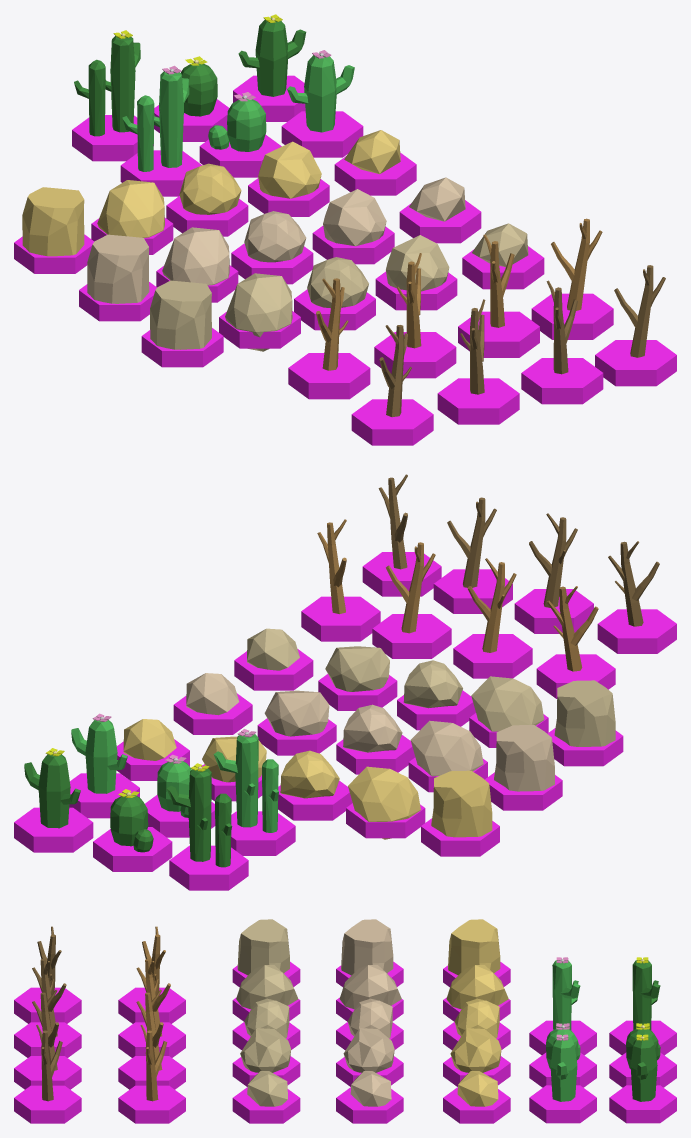
File: Deseat area.fbx
3 views of the same model, one above another, from view 1: azimuth 30°, elevation 25°; view 2: azimuth 150°, elevation 25°; view 3: azimuth 270°, elevation 25° (orthographic). The views are drawn at different scales.
Visible parts, largest first — view 1: Cylinder.043, Cylinder.010, Cylinder.004, Cylinder.028, Cylinder.020, Cylinder.006, Cylinder.003, Cylinder.030, Cylinder.012, Cylinder.024, Cylinder.022, Cylinder.036 (+17 smaller); view 2: Cylinder.043, Cylinder.010, Cylinder.028, Cylinder.020, Cylinder.004, Cylinder.012, Cylinder.026, Cylinder.036, Cylinder.039, Cylinder.016, Cylinder.015, Cylinder.006 (+17 smaller); view 3: Cylinder.006, Cylinder.012, Cylinder.030, Cylinder.009, Cylinder.004, Cylinder.020, Cylinder.028, Cylinder, Cylinder.008, Cylinder.023, Cylinder.043, Cylinder.010 (+17 smaller).
Boxes of the visible parts, x1,y1,x2,y2 form: Cylinder.043: (72,30,153,161); Cylinder.010: (120,65,202,196); Cylinder.004: (141,280,223,367); Cylinder.028: (14,187,94,273); Cylinder.020: (79,234,156,321); Cylinder.006: (281,50,363,157); Cylinder.003: (219,273,300,351); Cylinder.030: (595,265,676,386); Cylinder.012: (233,14,306,121); Cylinder.024: (248,141,329,216); Cylinder.022: (288,278,370,399); Cylinder.036: (351,325,433,445); Cylinder.043: (166,763,248,890); Cylinder.010: (213,729,295,855); Cylinder.028: (421,770,499,856); Cylinder.020: (484,725,562,810); Cylinder.004: (547,680,623,766); Cylinder.012: (14,748,93,852); Cylinder.026: (346,766,425,839); Cylinder.036: (597,541,676,653); Cylinder.039: (93,789,172,871); Cylinder.016: (453,558,532,678); Cylinder.015: (372,542,451,658); Cylinder.006: (69,713,139,818); Cylinder.006: (529,1034,596,1123); Cylinder.012: (609,1034,676,1123); Cylinder.030: (14,1024,81,1123); Cylinder.009: (118,1025,185,1123); Cylinder.004: (232,919,300,987); Cylinder.020: (336,919,403,987); Cylinder.028: (443,919,510,987); Cylinder: (232,1071,300,1123); Cylinder.008: (336,1071,403,1123); Cylinder.023: (443,1071,510,1123); Cylinder.043: (609,957,676,1055); Cylinder.010: (529,957,596,1055).
Size of the model in its own units: 10.77 by 3.37 by 19.64.
